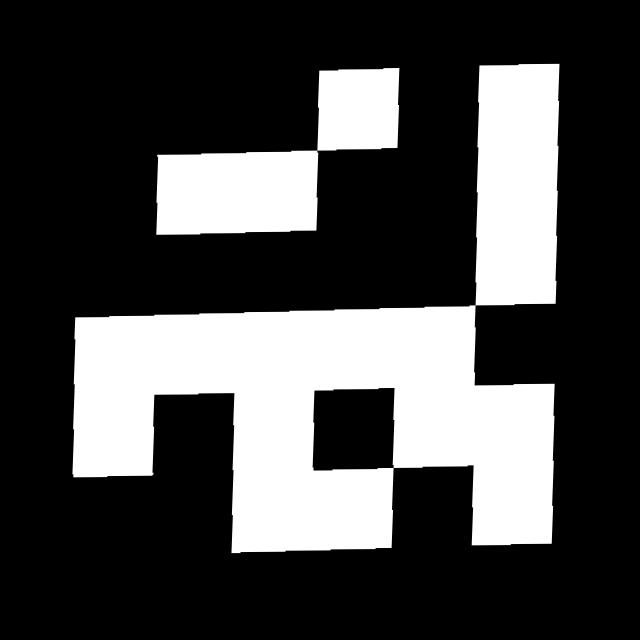aruco: (0, 0, 640, 640)
